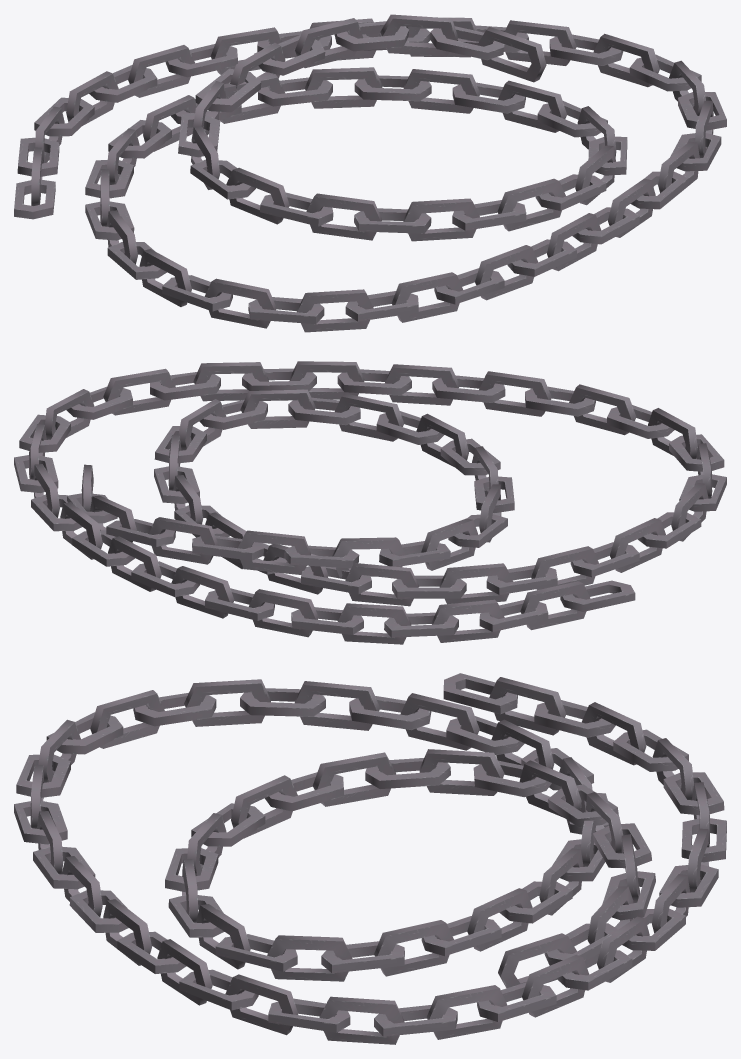
Rendered from Chain Coil.glb.
The picture shows the model from 3 angles, top to bottom: view 1: azimuth 30°, elevation 25°; view 2: azimuth 150°, elevation 25°; view 3: azimuth 270°, elevation 25°; orthographic projection. The views are drawn at different scales.
Parts seen in each view (by area): view 1: Chain_Coil; view 2: Chain_Coil; view 3: Chain_Coil.
Boxes of the visible parts, x1,y1,x2,y2 form: Chain_Coil: (14, 14, 726, 332); Chain_Coil: (14, 361, 726, 644); Chain_Coil: (14, 673, 726, 1044).
Size of the model in its own units: 1.07 by 0.0872 by 0.9077.
1 material, 1 textured.
